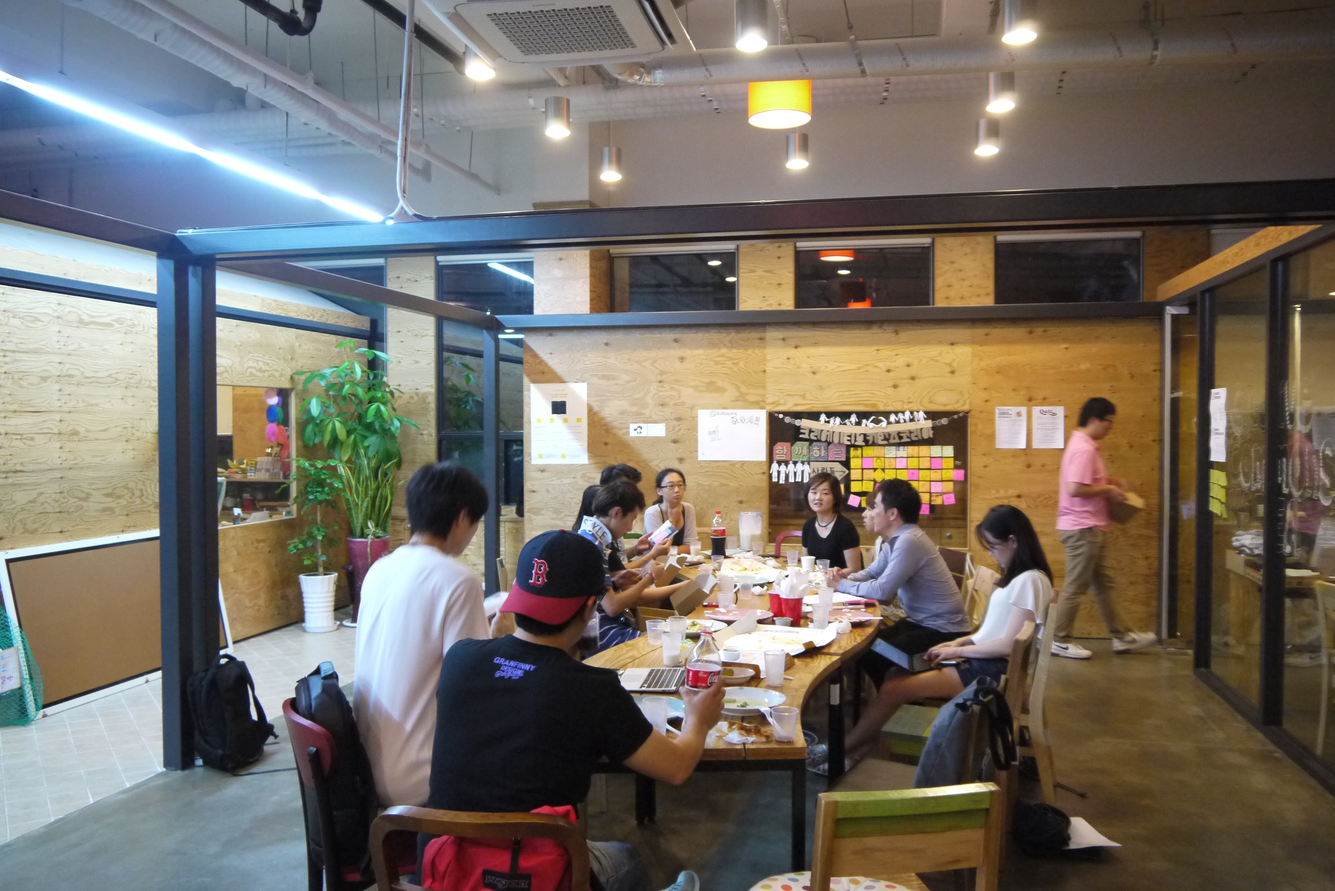Chair: (836, 617, 1041, 890), (882, 596, 1059, 808), (742, 773, 1010, 888), (284, 697, 424, 890), (367, 806, 597, 890), (906, 566, 1005, 677), (1313, 580, 1334, 753), (940, 539, 968, 609), (487, 560, 513, 612), (768, 529, 807, 563)
